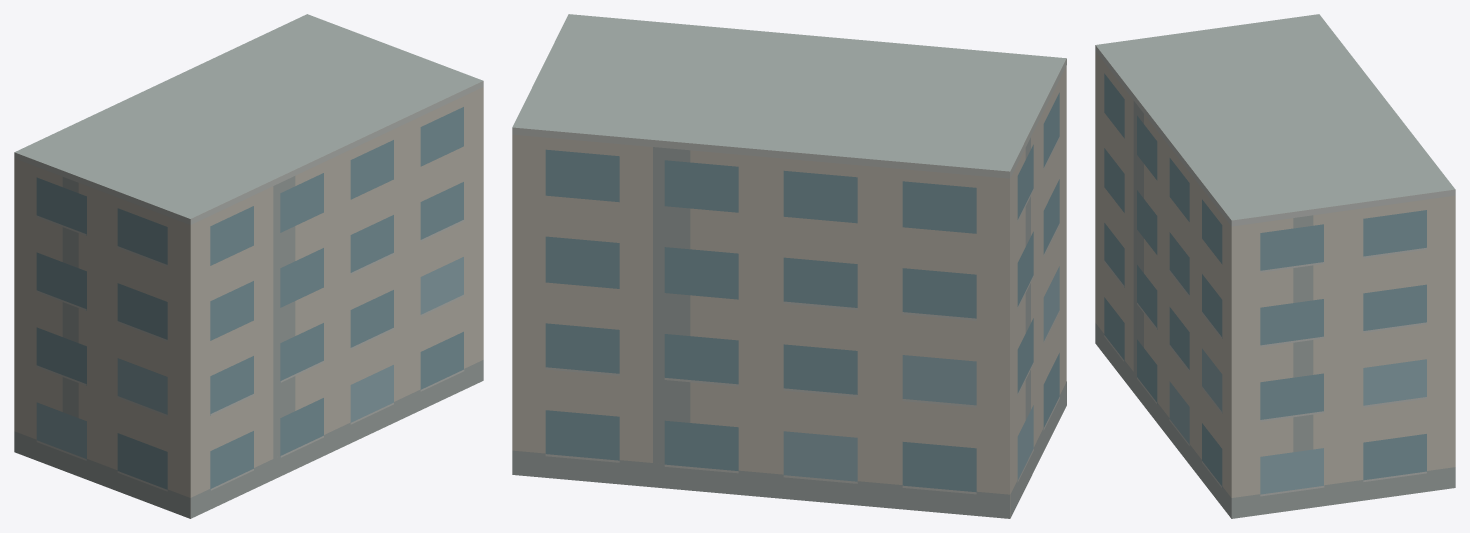
Rendered from residential-f687f7ec-4829-44f2-ba93-de4f59172c96.glb.
3 renders of one model, left to right at view 1: azimuth 30°, elevation 25°; view 2: azimuth 150°, elevation 25°; view 3: azimuth 270°, elevation 25°, orthographic. The views are drawn at different scales.
Visible parts, largest first — view 1: residential-f687f7ec-4829-44f2-ba93-de4f59172c96.tmp; view 2: residential-f687f7ec-4829-44f2-ba93-de4f59172c96.tmp; view 3: residential-f687f7ec-4829-44f2-ba93-de4f59172c96.tmp.
Part boxes in pixels (x1,y1,x2,y2): residential-f687f7ec-4829-44f2-ba93-de4f59172c96.tmp: (14,14,483,518); residential-f687f7ec-4829-44f2-ba93-de4f59172c96.tmp: (512,14,1066,518); residential-f687f7ec-4829-44f2-ba93-de4f59172c96.tmp: (1095,14,1455,518).
Bounding box in the file's own units: 17.82 × 12 × 13.14.
